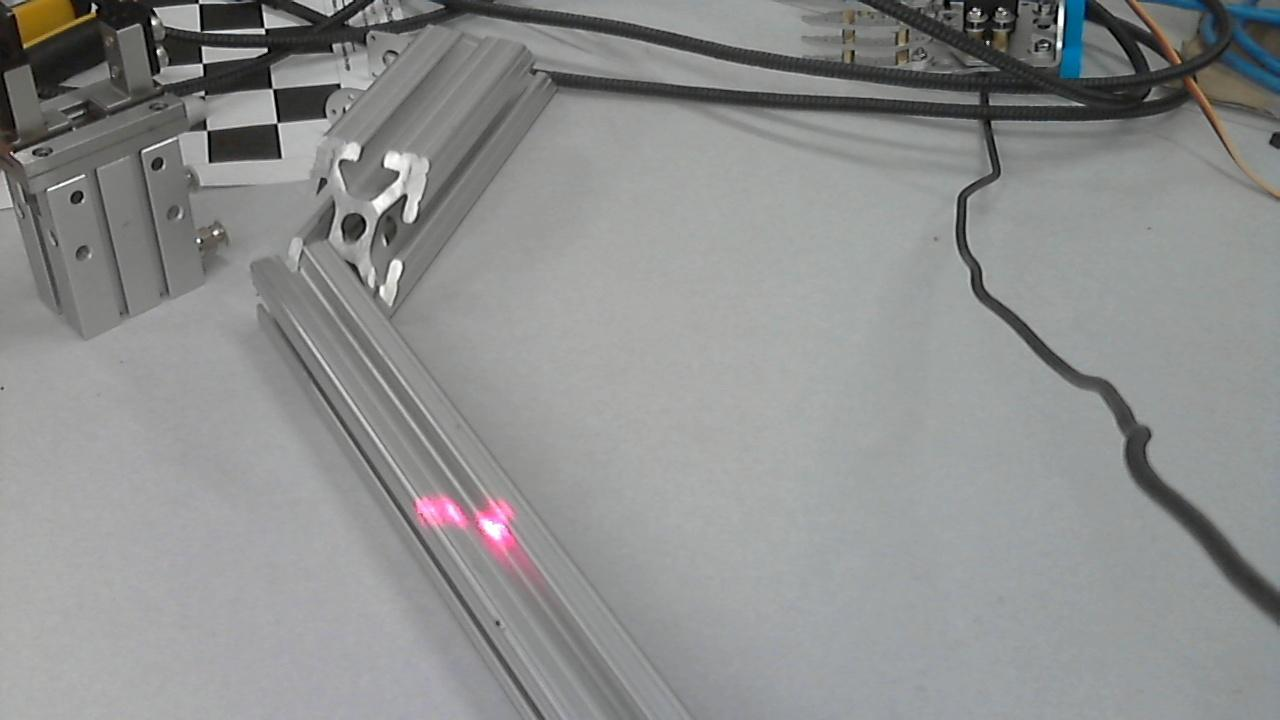Object - extruded aluminum profile - Material metal - Pdfname IJiB5jbMhrV7: (411, 466, 525, 569)
